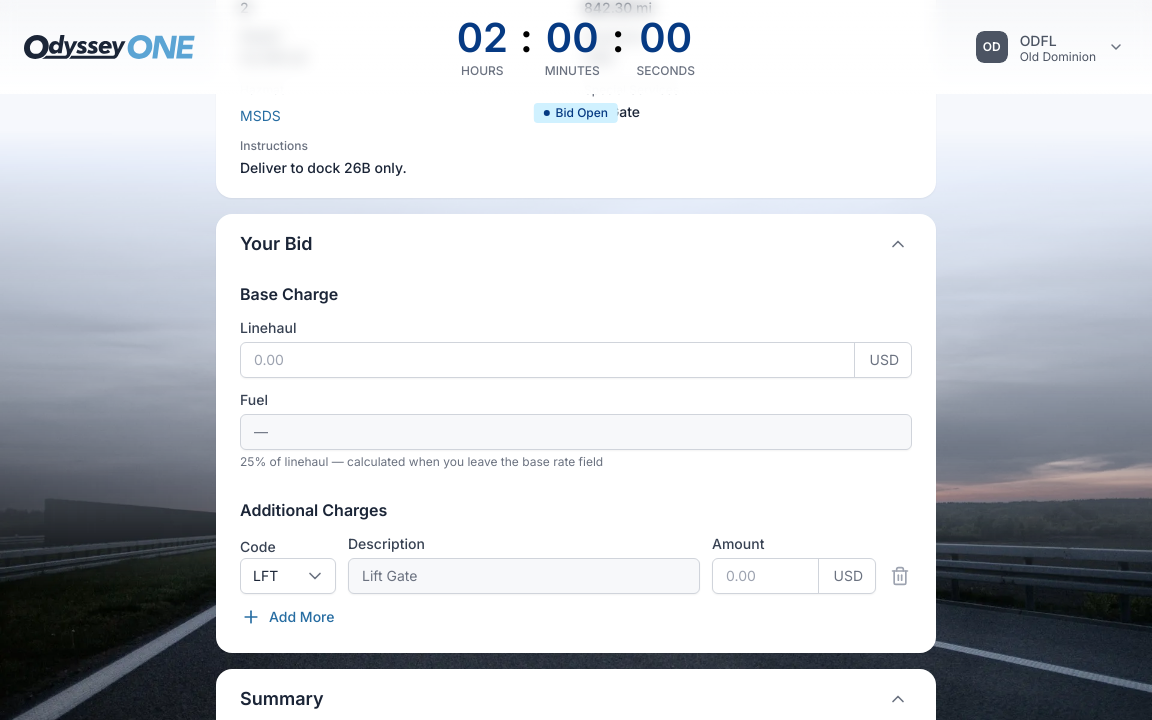
Test case: CarrierBid — open quote › Fuel is a disabled read-only field: % schedule shows pending until base-rate blur, then resolves (SPB-64)
(page scrolled)
Expected: the field labelled "Fuel" is disabled, [254,422,898,442]
Expected: the field labelled "Fuel" holds "—", [254,422,898,442]
Step 1. Type "1000" into the field labelled "Linehaul" → (548, 360), box [254,350,842,370]
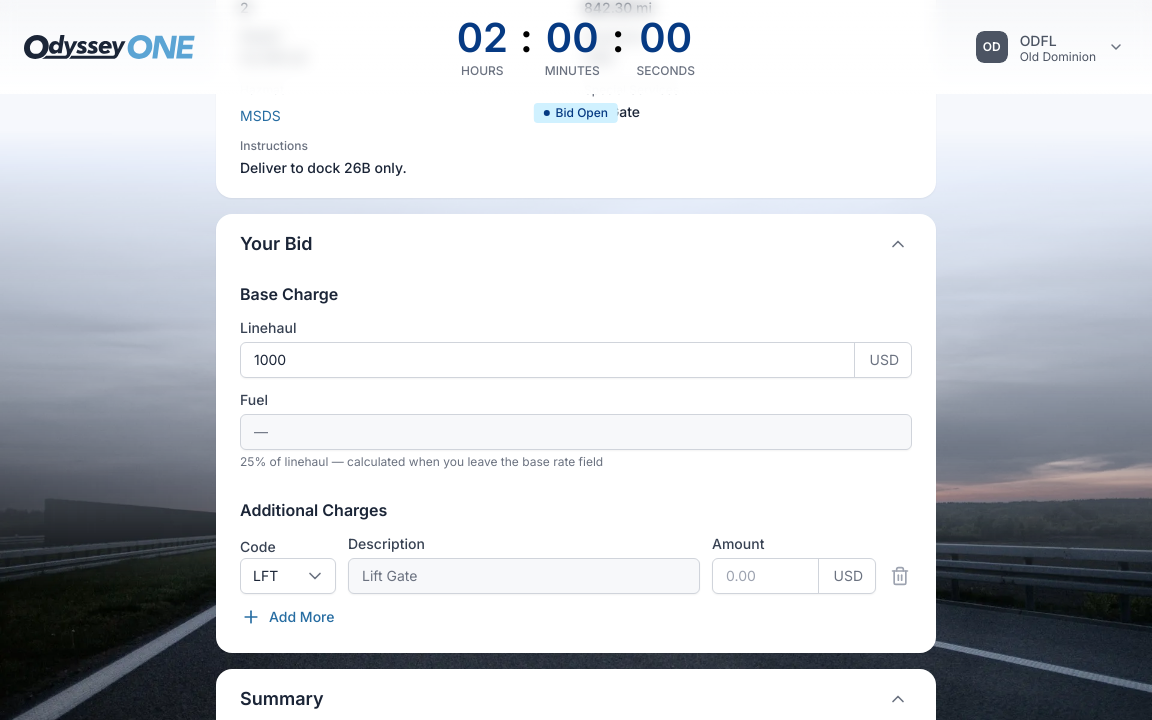
Expected: the field labelled "Fuel" holds "—", [254,422,898,442]
Step 2. Leave the field labelled "Linehaul", box [254,350,842,370]
(page scrolled)
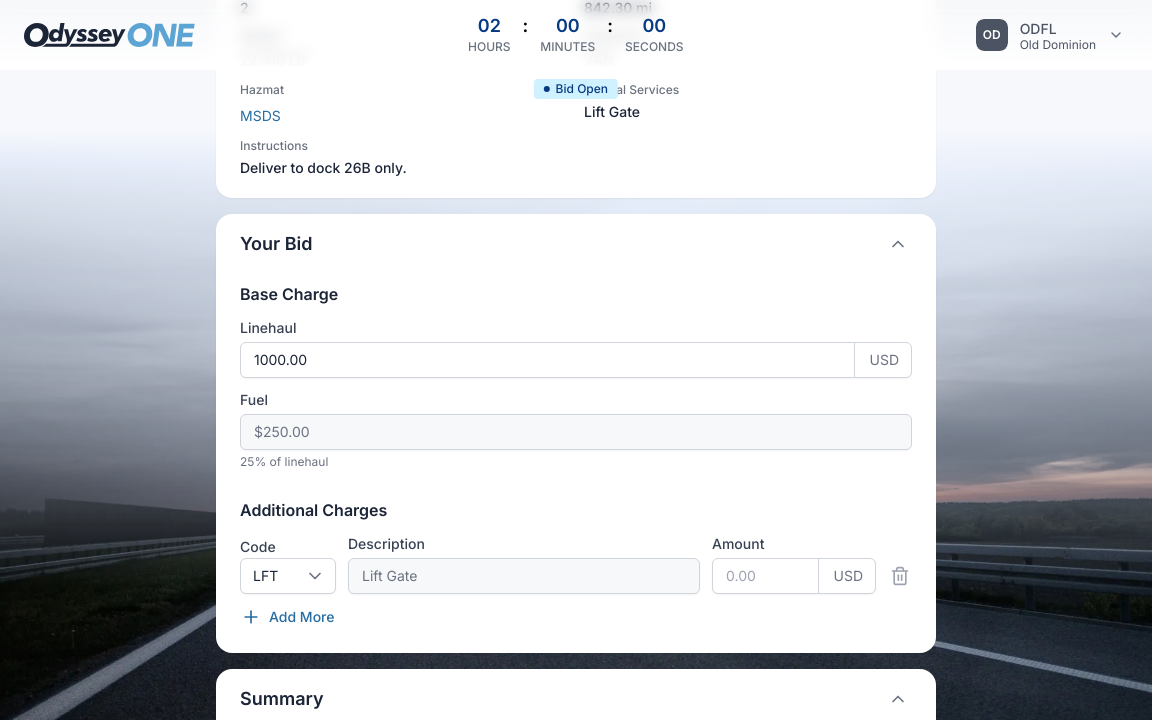
Expected: the field labelled "Fuel" holds "$250.00", [254,422,898,442]
